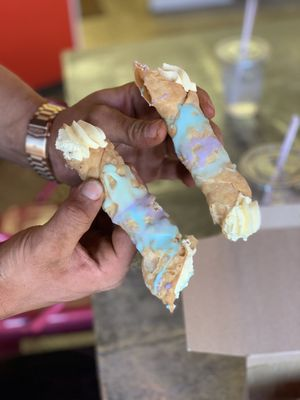pizza: (11, 63, 274, 379)
